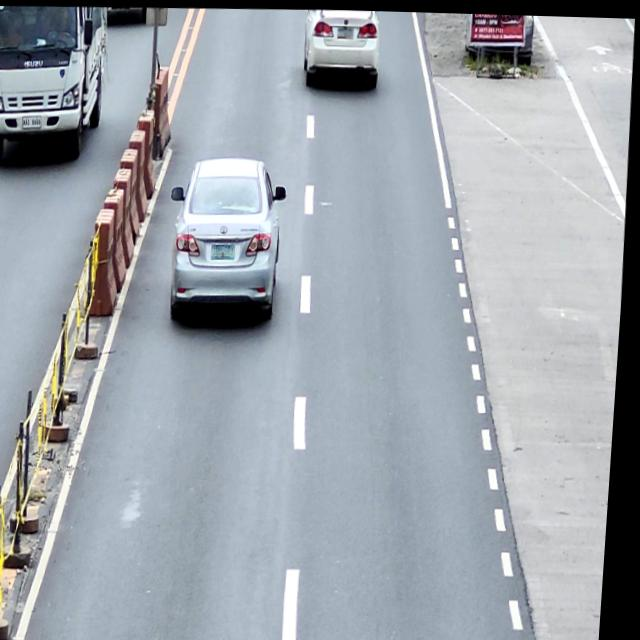Car: (167, 154, 293, 322), (300, 7, 383, 88)
License-Plate: (214, 242, 238, 259), (22, 116, 43, 128), (337, 24, 355, 37)
Truck: (0, 3, 110, 163)
